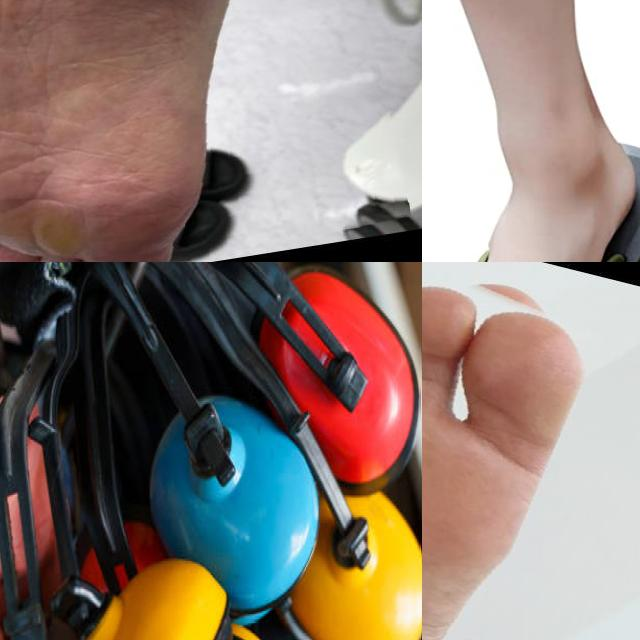Barefoots: (0, 0, 405, 262), (422, 288, 589, 640)
Ear-protection: (96, 262, 320, 625), (58, 273, 236, 640), (197, 262, 422, 492), (0, 307, 66, 640), (296, 478, 422, 640)
Sandals: (424, 122, 637, 262)
